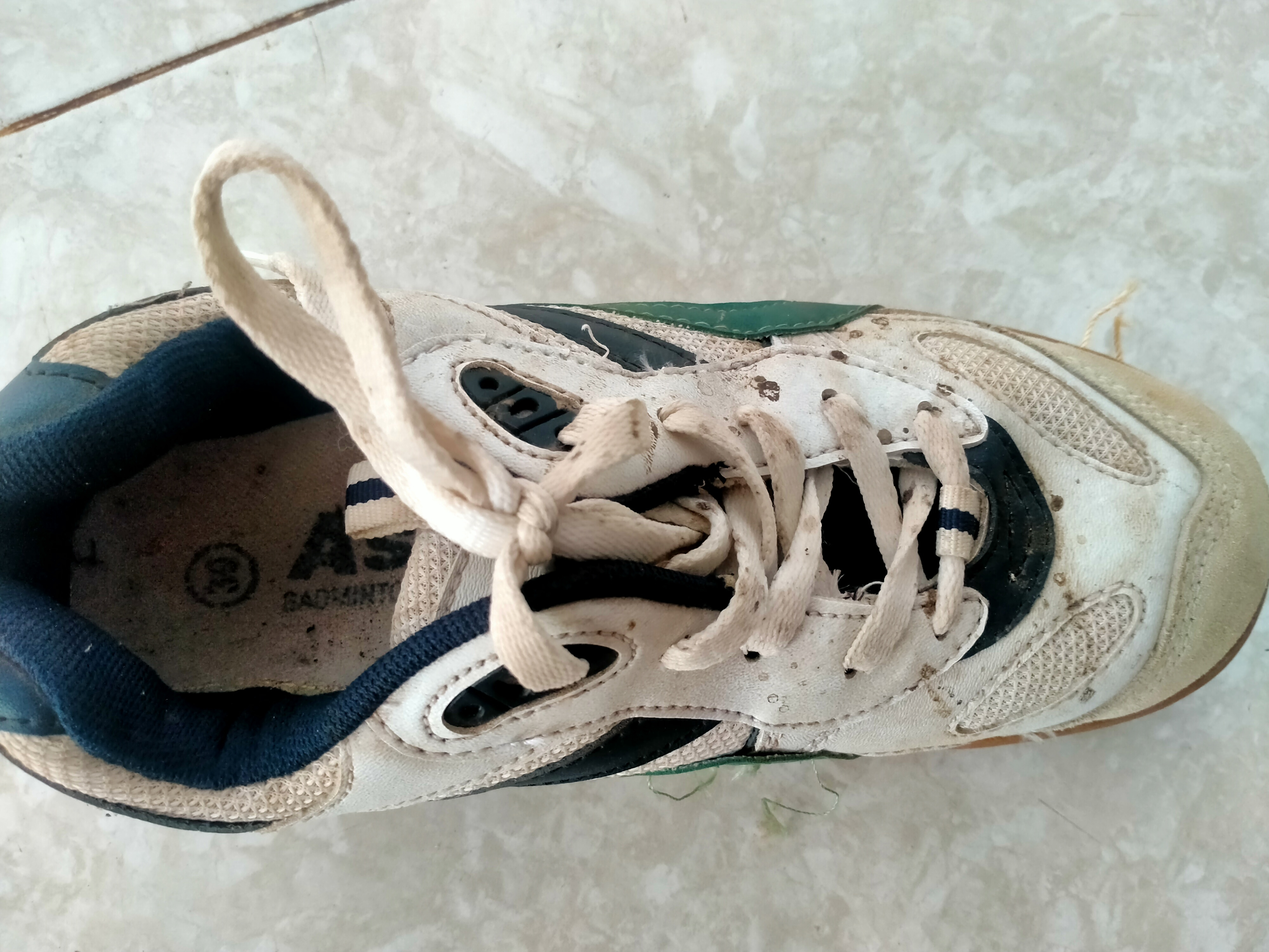broken: (444, 340, 604, 372)
